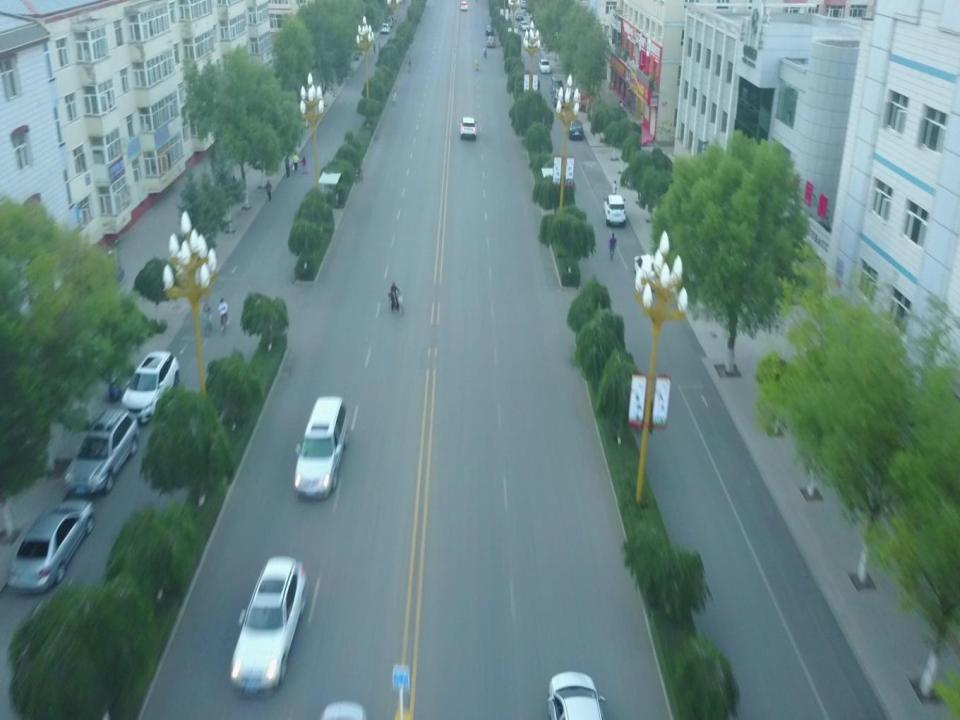car: (224, 554, 307, 696), (5, 500, 96, 592), (60, 406, 140, 495), (294, 395, 348, 501), (120, 349, 180, 425), (546, 669, 606, 720), (632, 252, 671, 294), (603, 193, 627, 226), (570, 92, 593, 112), (459, 116, 477, 139), (550, 88, 567, 108), (568, 119, 584, 140), (538, 58, 550, 74), (518, 20, 530, 31), (526, 36, 538, 47), (486, 35, 496, 47), (380, 22, 390, 34), (485, 24, 493, 36), (515, 10, 523, 21), (459, 0, 467, 10), (384, 17, 392, 27)
van: (550, 75, 565, 96)
